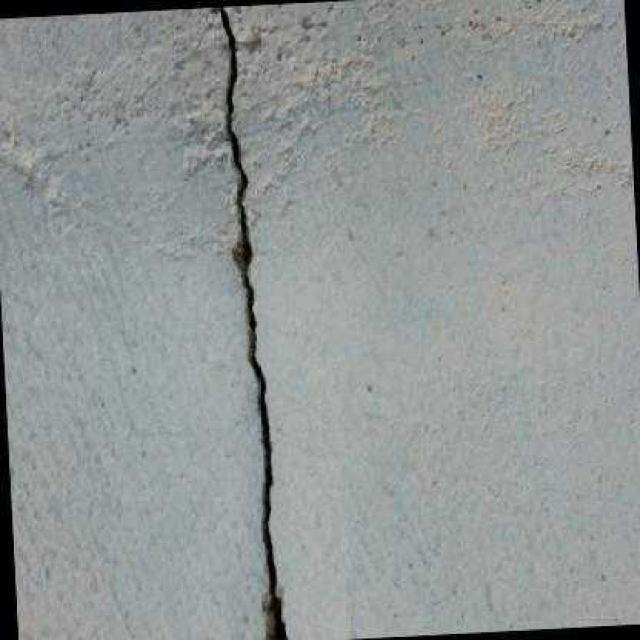D00: (214, 5, 289, 640)
